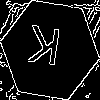K: (25, 25, 63, 75)
